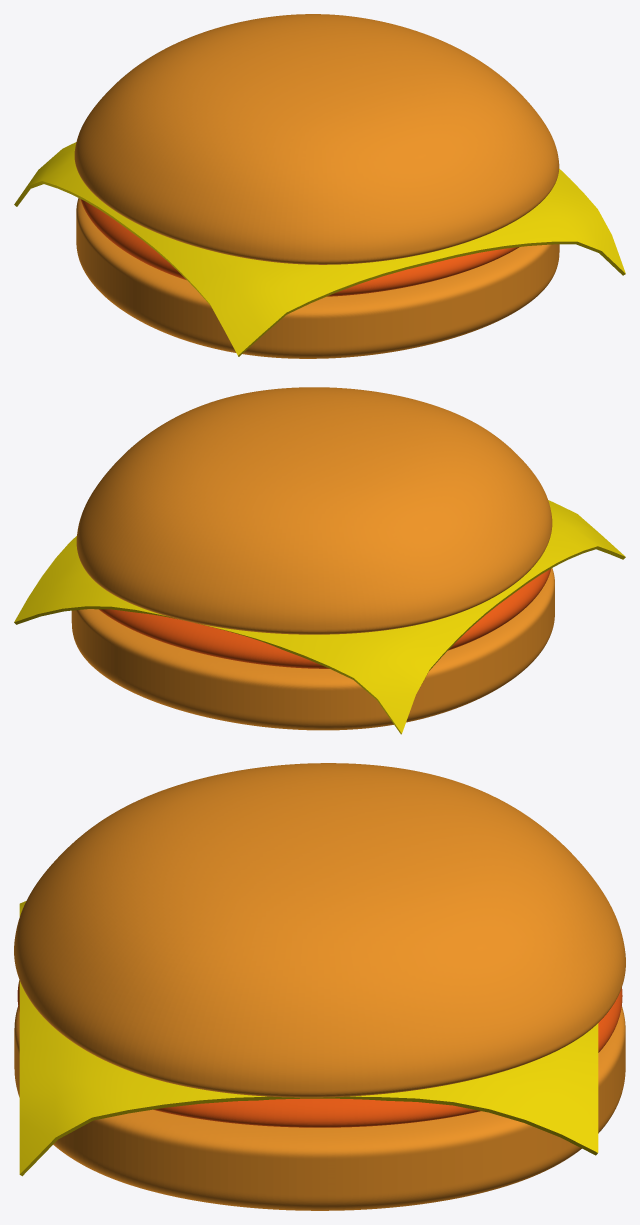
The model's file is hamburger.glb.
3 views of the same model, one above another, from view 1: azimuth 30°, elevation 25°; view 2: azimuth 150°, elevation 25°; view 3: azimuth 270°, elevation 25° (orthographic). The views are drawn at different scales.
Visible parts, largest first — view 1: Cube.002, Cube, Plane, Cube.001; view 2: Cube.002, Cube, Plane, Cube.001; view 3: Cube.002, Cube, Plane, Cube.001.
Part boxes in pixels (left/top/right/bottom): Cube.002: left=74, top=14, right=559, bottom=264; Cube: left=76, top=198, right=559, bottom=358; Plane: left=14, top=142, right=625, bottom=356; Cube.001: left=80, top=199, right=519, bottom=296; Cube.002: left=76, top=387, right=552, bottom=634; Cube: left=71, top=568, right=554, bottom=730; Plane: left=14, top=500, right=625, bottom=734; Cube.001: left=99, top=569, right=550, bottom=668; Cube.002: left=14, top=763, right=625, bottom=1097; Cube: left=14, top=1006, right=625, bottom=1210; Plane: left=19, top=901, right=598, bottom=1176; Cube.001: left=17, top=980, right=622, bottom=1127.
Bounding box in the file's own units: 9.76 × 5.03 × 9.74.
